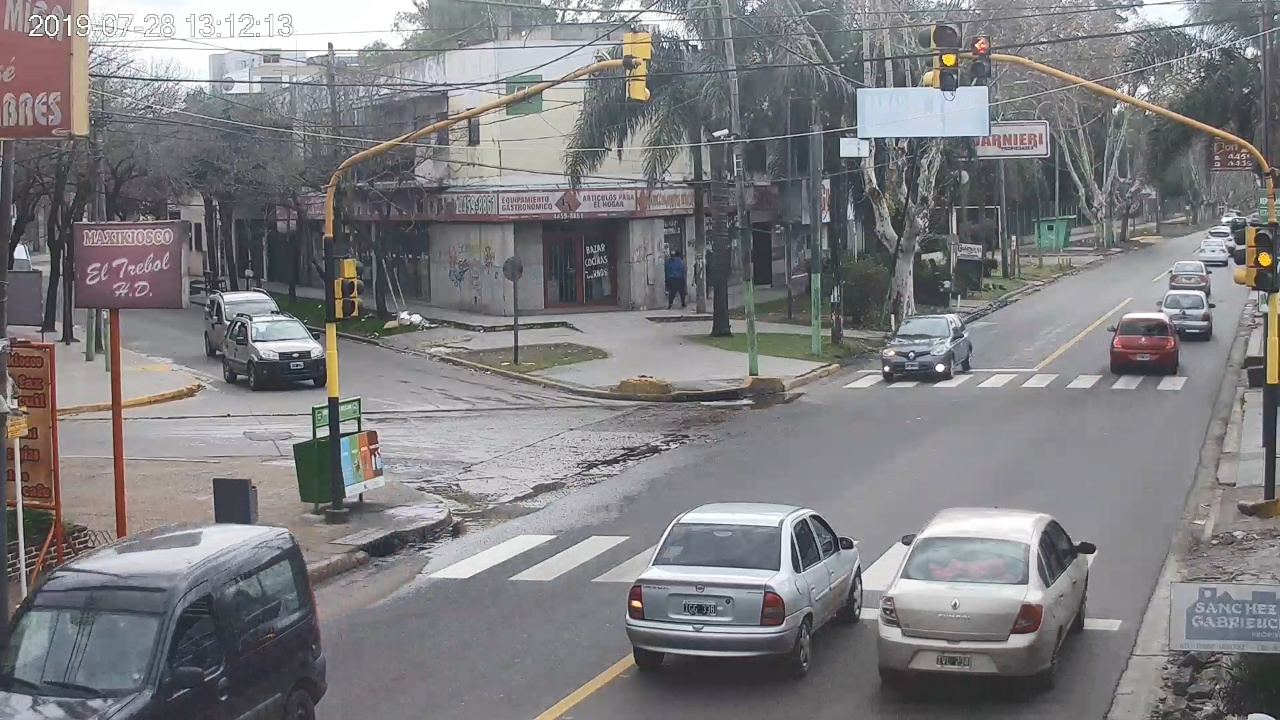car: (625, 503, 865, 678), (878, 506, 1097, 688), (1107, 311, 1184, 375)
front car: (882, 314, 973, 379)
traffic light: (940, 23, 958, 90), (1256, 228, 1274, 288)
